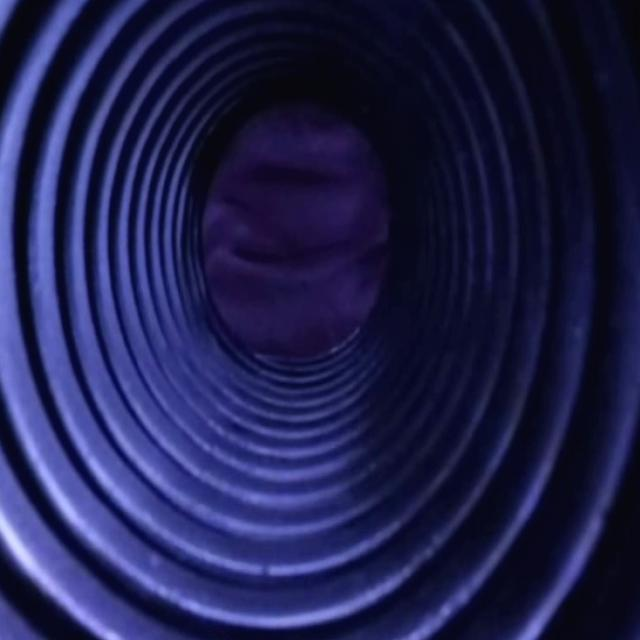block: (208, 121, 382, 361)
